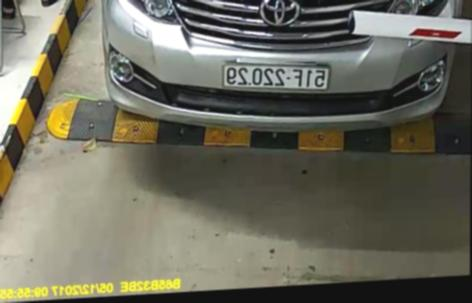License_Plate: (217, 55, 334, 97)
